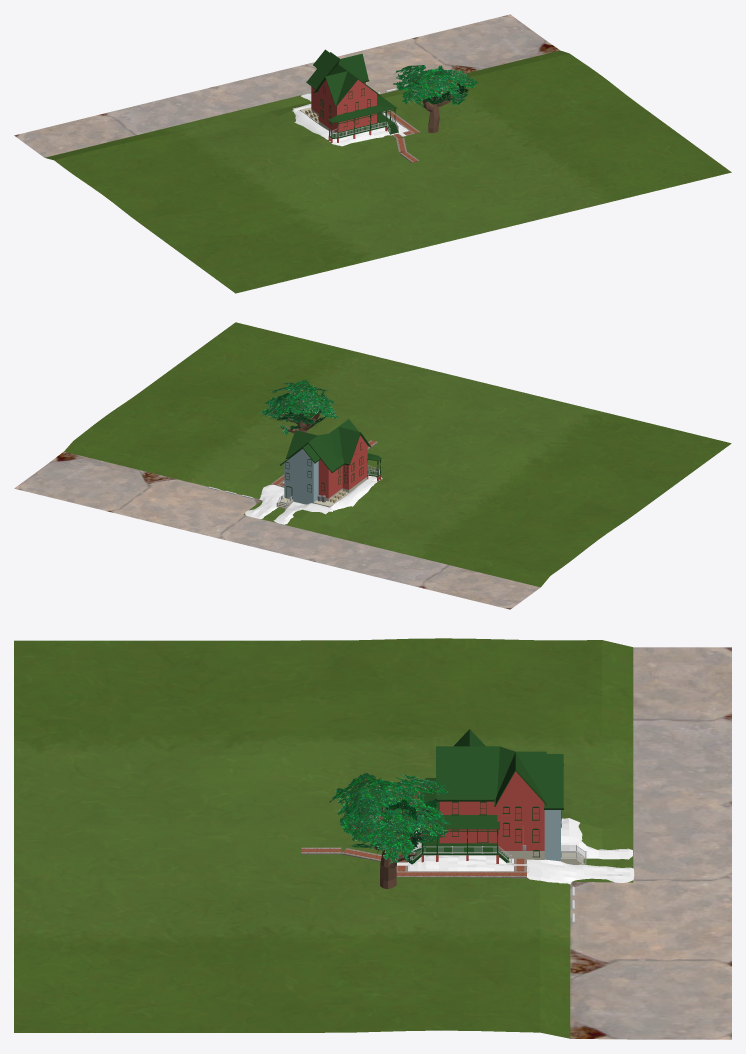
File: scenery2.glb
3 views of the same model, one above another, from view 1: azimuth 30°, elevation 25°; view 2: azimuth 150°, elevation 25°; view 3: azimuth 270°, elevation 25° (orthographic). The views are drawn at different scales.
Visible parts, largest first — view 1: groundPlane, Plane.020, Cube, Plane.004, Plane, mulchPlane_01, tallTree, Cube.021; view 2: groundPlane, Plane.020, Cube, Cube.026, mulchPlane_02, mulchPlane_03, Plane.021; view 3: groundPlane, Plane.020, Cube, mulchPlane_02, Cube.026, mulchPlane_01, mulchPlane_03, Plane.003, Plane, Plane.004, Cube.021, Plane.069 (+3 smaller).
Part boxes in pixels (<box>): groundPlane: <box>45,50,731,293</box>; Plane.020: <box>14,14,559,157</box>; Cube: <box>307,52,379,132</box>; Plane.004: <box>418,68,460,99</box>; Plane: <box>328,94,396,122</box>; mulchPlane_01: <box>329,113,408,146</box>; tallTree: <box>405,71,460,132</box>; Cube.021: <box>328,112,395,138</box>; groundPlane: <box>64,322,731,587</box>; Plane.020: <box>14,451,540,609</box>; Cube: <box>285,419,371,501</box>; Cube.026: <box>280,443,319,504</box>; mulchPlane_02: <box>245,484,284,518</box>; mulchPlane_03: <box>273,501,332,524</box>; Plane.021: <box>329,479,377,510</box>; groundPlane: <box>14,638,633,1038</box>; Plane.020: <box>570,647,731,1039</box>; Cube: <box>436,729,546,859</box>; mulchPlane_02: <box>527,859,634,884</box>; Cube.026: <box>544,754,563,861</box>; mulchPlane_01: <box>408,828,513,871</box>; mulchPlane_03: <box>561,818,632,859</box>; Plane.003: <box>390,803,450,837</box>; Plane: <box>420,778,499,829</box>; Plane.004: <box>329,773,390,819</box>; Cube.021: <box>421,829,498,855</box>; Plane.069: <box>342,806,389,842</box>.
Bounding box in the file's own units: 56.19 × 7.9 × 43.45.
Materials: 15 (4 with a texture image).
